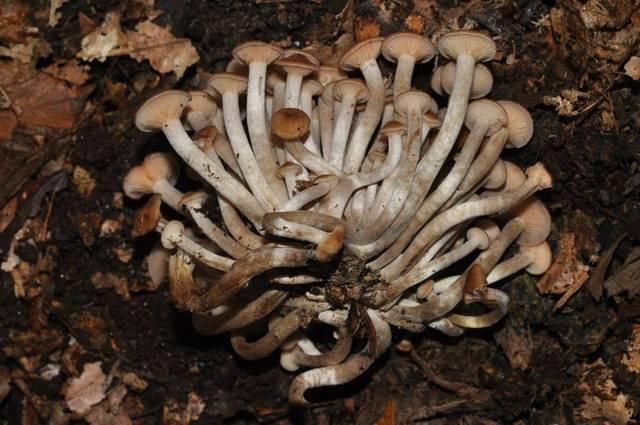edible_mushroom: (123, 27, 555, 405)
